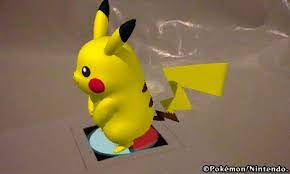Pikachu: (72, 3, 232, 154)
